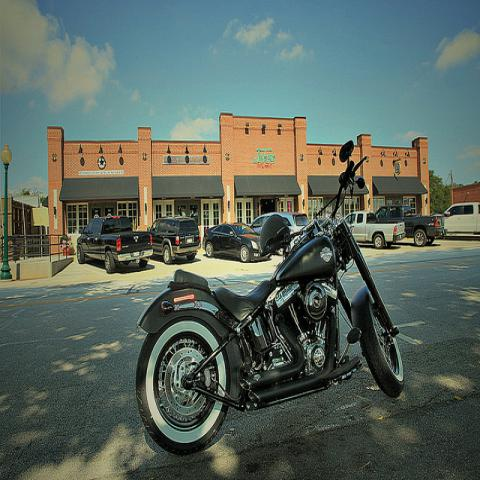car: (76, 216, 153, 276), (374, 203, 438, 247), (149, 217, 198, 264), (203, 224, 264, 261), (247, 212, 314, 238), (313, 218, 339, 236)
motorcycle: (132, 139, 407, 459)
truck: (346, 212, 407, 250), (442, 202, 480, 239)
